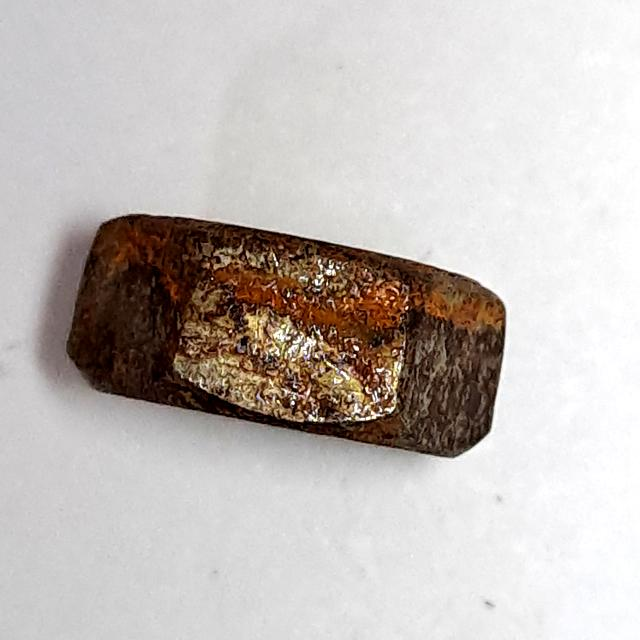Side_Rust: (57, 203, 527, 474)
